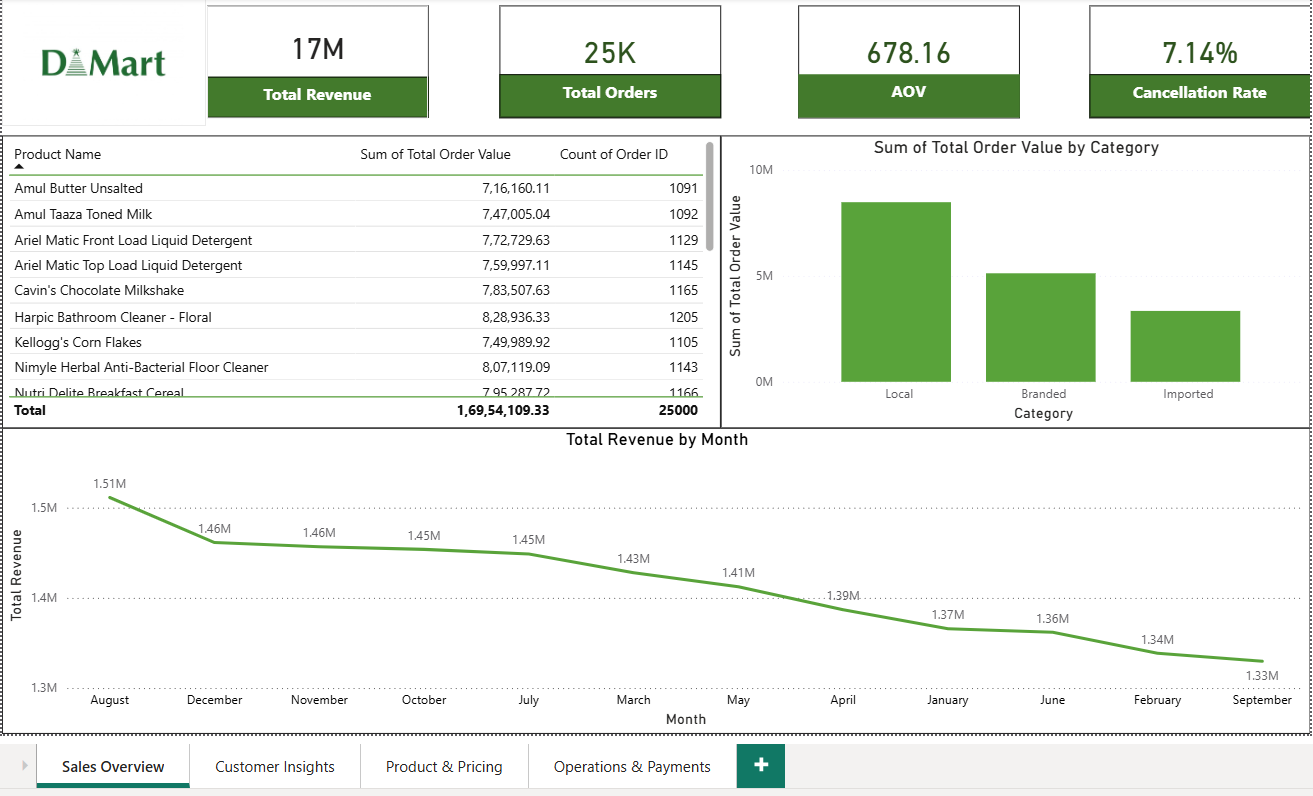

This screenshot's page, from the dashboard's own definition file:
{"tool":"powerbi","page":{"name":"Sales Overview","canvas":[1280,720],"ordinal":0},"visuals":[{"type":"card","fields":{"Values":["Dmart+Dataset_Tableau.Total Revenue"]},"box":[200.5,7.3,216.4,103.2],"z":0,"group":"g1"},{"type":"lineChart","fields":{"Category":["Dmart+Dataset_Tableau.Year","Dmart+Dataset_Tableau.Month"],"Y":["Dmart+Dataset_Tableau.Total Revenue"]},"box":[0,420.7,1280.3,299.6],"z":0},{"type":"card","fields":{"Values":["Dmart+Dataset_Tableau.Total Orders"]},"box":[486.7,7.3,216.4,110.1],"z":1000,"group":"g2"},{"type":"clusteredColumnChart","fields":{"Category":["Dmart+Dataset_Tableau.Category"],"Y":["Sum(Dmart+Dataset_Tableau.Total Order Value)"]},"box":[703.1,134.5,577.2,286.1],"z":1000},{"type":"card","fields":{"Values":["Dmart+Dataset_Tableau.AOV"]},"box":[778.9,7.3,216.4,110.1],"z":2000,"group":"g3"},{"type":"tableEx","fields":{"Values":["Dmart+Dataset_Tableau.Product Name","Sum(Dmart+Dataset_Tableau.Total Order Value)","CountNonNull(Dmart+Dataset_Tableau.Order ID)"]},"box":[0,135,703,286],"z":2000},{"type":"image","box":[0,0,199.3,124.7],"z":3000},{"type":"card","fields":{"Values":["Dmart+Dataset_Tableau.Cancellation Rate"]},"box":[1063.9,7.3,216.4,110.1],"z":3000,"group":"g4"},{"type":"group","id":"g1","title":"Group 1","box":[200.5,7.3,216.4,110.1],"z":4000},{"type":"group","id":"g2","title":"Group 2","box":[486.7,7.3,216.4,110.1],"z":5000},{"type":"group","id":"g3","title":"Group 3","box":[778.9,7.3,216.4,110.1],"z":6000},{"type":"textbox","box":[200.5,77.2,216.4,40.1],"z":6001,"group":"g1"},{"type":"textbox","box":[486.7,74.6,216.4,42.8],"z":6002,"group":"g2"},{"type":"textbox","box":[778.9,74.6,216.4,42.8],"z":6003,"group":"g3"},{"type":"textbox","box":[1063.9,74.6,216.4,42.8],"z":6004,"group":"g4"},{"type":"group","id":"g4","title":"Group 4","box":[1063.9,7.3,216.4,110.1],"z":7000}]}

Visuals, with their boxes on the page's 1280x720 design canvas (x1, y1, x2, y2). These are canvas units, not pixel positions in the 1313x796 screenshot, which may show the page scaled, cropped or inside an application window:
card - Dmart+Dataset_Tableau.Total Revenue: region(200, 7, 417, 110)
lineChart - Dmart+Dataset_Tableau.Year x Dmart+Dataset_Tableau.Month: region(0, 421, 1280, 720)
card - Dmart+Dataset_Tableau.Total Orders: region(487, 7, 703, 117)
clusteredColumnChart - Dmart+Dataset_Tableau.Category x Sum(Dmart+Dataset_Tableau.Total Order Value): region(703, 134, 1280, 421)
card - Dmart+Dataset_Tableau.AOV: region(779, 7, 995, 117)
tableEx - Dmart+Dataset_Tableau.Product Name x Sum(Dmart+Dataset_Tableau.Total Order Value): region(0, 135, 703, 421)
image: region(0, 0, 199, 125)
card - Dmart+Dataset_Tableau.Cancellation Rate: region(1064, 7, 1280, 117)
"Group 1" group: region(200, 7, 417, 117)
"Group 2" group: region(487, 7, 703, 117)
"Group 3" group: region(779, 7, 995, 117)
textbox: region(200, 77, 417, 117)
textbox: region(487, 75, 703, 117)
textbox: region(779, 75, 995, 117)
textbox: region(1064, 75, 1280, 117)
"Group 4" group: region(1064, 7, 1280, 117)
